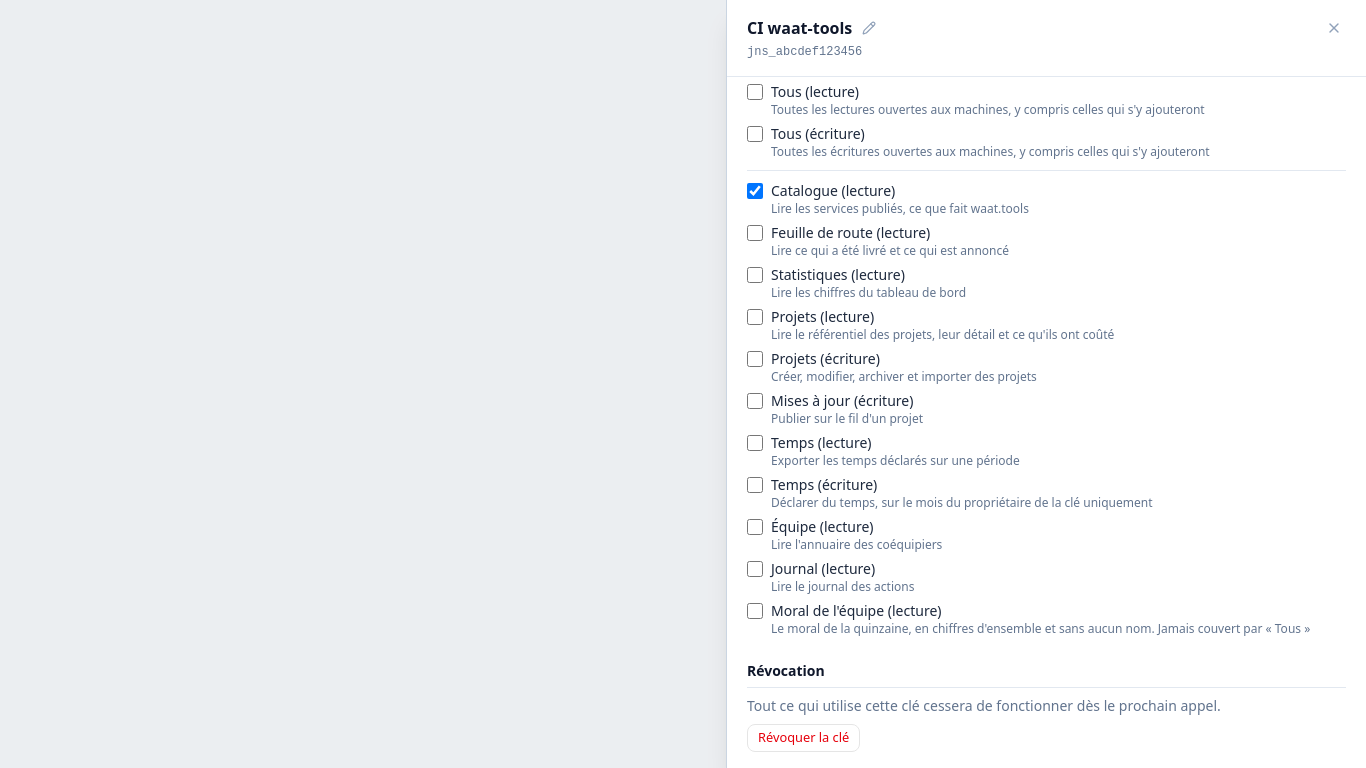
Test: ApiKeyPanel › revoking › asks before cutting
This screenshot has width=1366, height=768.
(page scrolled)
Click the button "Révoquer la clé": coordinates (804, 738) [747,724,860,752]
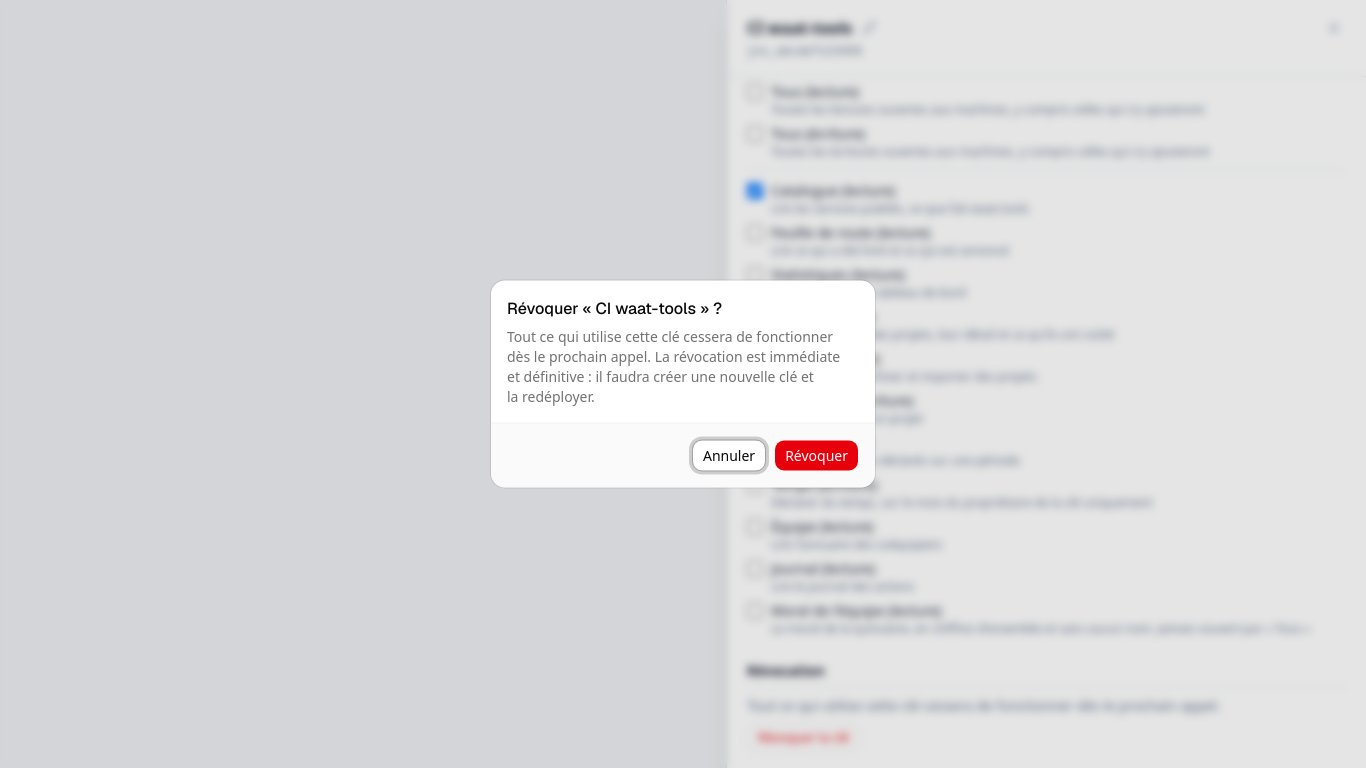
Expected: the text "immédiate et définitive" is shown, [507,326,840,406]
